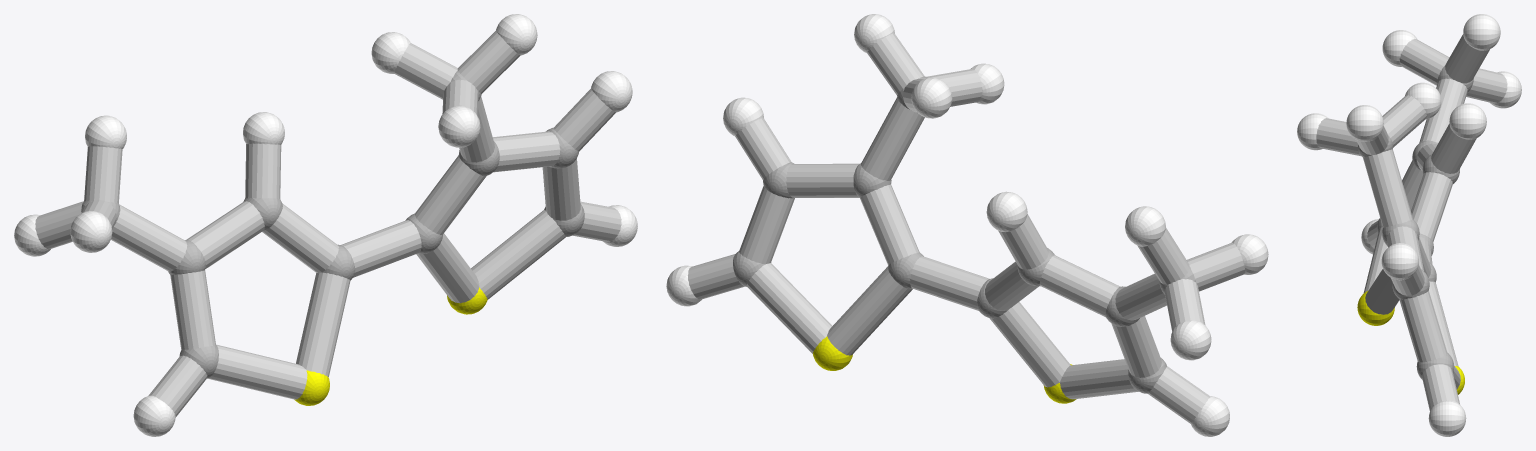
File: color.glb
3 views of the same model, side by side, from view 1: azimuth 30°, elevation 25°; view 2: azimuth 150°, elevation 25°; view 3: azimuth 270°, elevation 25° (orthographic). The views are drawn at different scales.
Parts seen in each view (by area): view 1: grp7965, grp3621, grp1, grp7241; view 2: grp7965, grp3621, grp1, grp7241; view 3: grp7965, grp3621, grp1, grp7241.
Boxes of the visible parts, x1,y1,x2,y2 form: grp7965: (35,31,621,417); grp3621: (14,14,637,436); grp1: (81,71,584,378); grp7241: (294,287,487,405); grp7965: (687,33,1245,423); grp3621: (666,14,1268,436); grp1: (733,76,1195,393); grp7241: (813,336,1076,403); grp7965: (1316,34,1507,411); grp3621: (1297,14,1521,436); grp1: (1358,65,1473,379); grp7241: (1357,290,1464,394).
Size of the model in its own units: 9.65 by 5.39 by 3.6.
